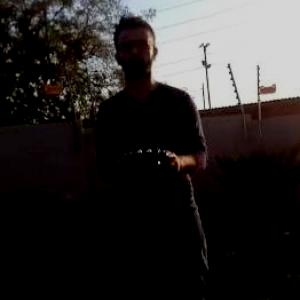follow: (90, 11, 225, 299)
